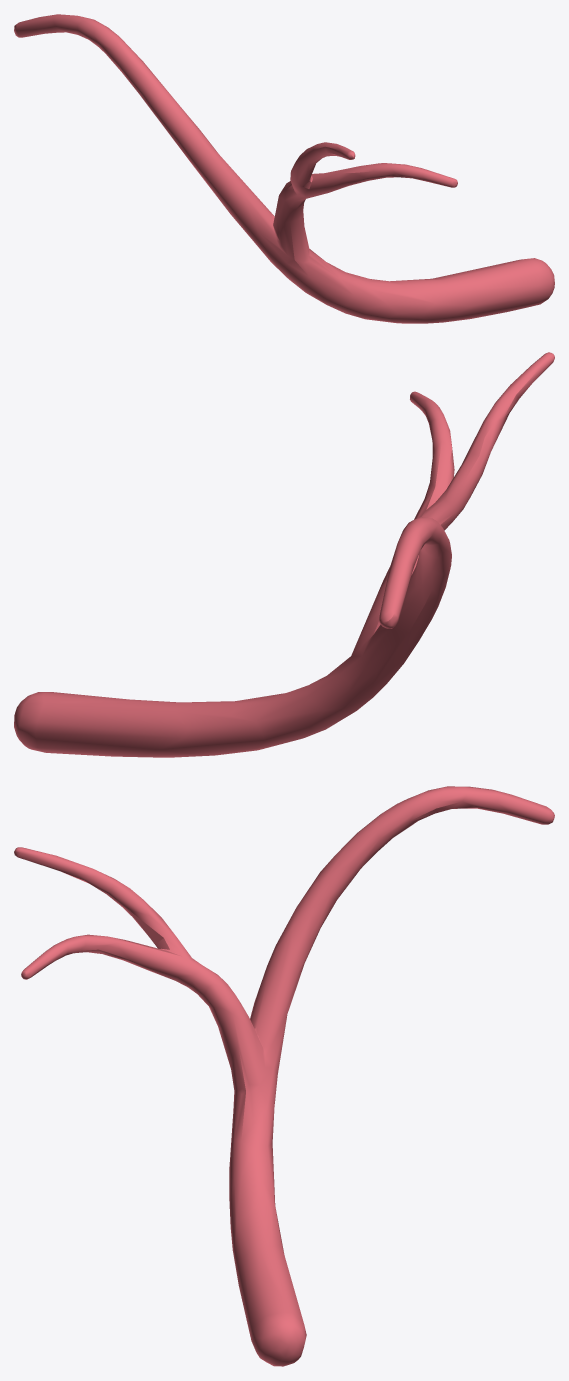
The model's file is fma15428_fj3127.glb.
3 renders of one model, top to bottom at view 1: azimuth 30°, elevation 25°; view 2: azimuth 150°, elevation 25°; view 3: azimuth 270°, elevation 25°, orthographic. The views are drawn at different scales.
Visible parts, largest first — view 1: FMA15428_FJ3127; view 2: FMA15428_FJ3127; view 3: FMA15428_FJ3127.
Boxes of the visible parts, x1,y1,x2,y2 form: FMA15428_FJ3127: [14, 14, 554, 323]; FMA15428_FJ3127: [14, 352, 554, 757]; FMA15428_FJ3127: [14, 786, 554, 1366].
Size of the model in its own units: 0.0291 by 0.0213 by 0.0283.
